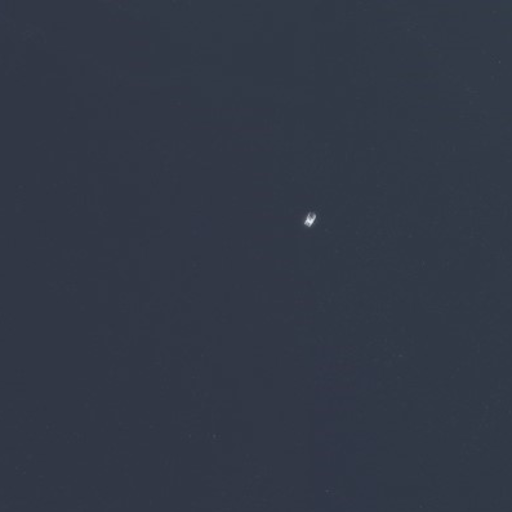ship: (302, 208, 319, 231)
